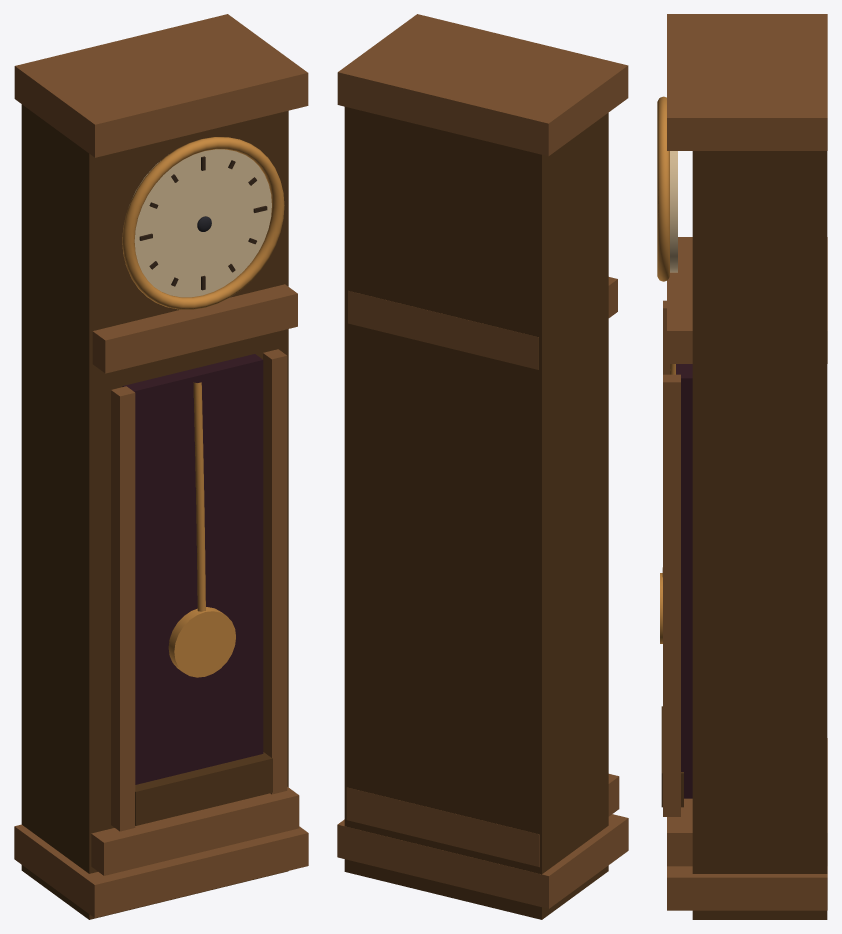
File: mia-grandfather_clock.glb
3 renders of one model, left to right at view 1: azimuth 30°, elevation 25°; view 2: azimuth 150°, elevation 25°; view 3: azimuth 270°, elevation 25°, orthographic.
Visible parts, largest first — view 1: Body_wood, Body_oak, Body_dark, Body_ivory, Body_brass, Body_grain; view 2: Body_wood, Body_oak; view 3: Body_wood, Body_oak, Body_dark, Body_brass, Body_ivory.
Boxes of the visible parts, x1,y1,x2,y2 form: Body_wood: (21, 104, 288, 919); Body_oak: (14, 14, 308, 917); Body_dark: (122, 354, 263, 784); Body_ivory: (129, 149, 271, 297); Body_brass: (122, 137, 284, 677); Body_grain: (139, 156, 267, 290); Body_wood: (344, 107, 608, 919); Body_oak: (337, 14, 628, 908); Body_wood: (661, 151, 827, 919); Body_oak: (663, 14, 827, 910); Body_dark: (676, 364, 692, 798); Body_brass: (657, 96, 675, 643); Body_ivory: (670, 151, 677, 272).
Bounding box in the file's own units: 0.622 × 2.24 × 0.4293.
